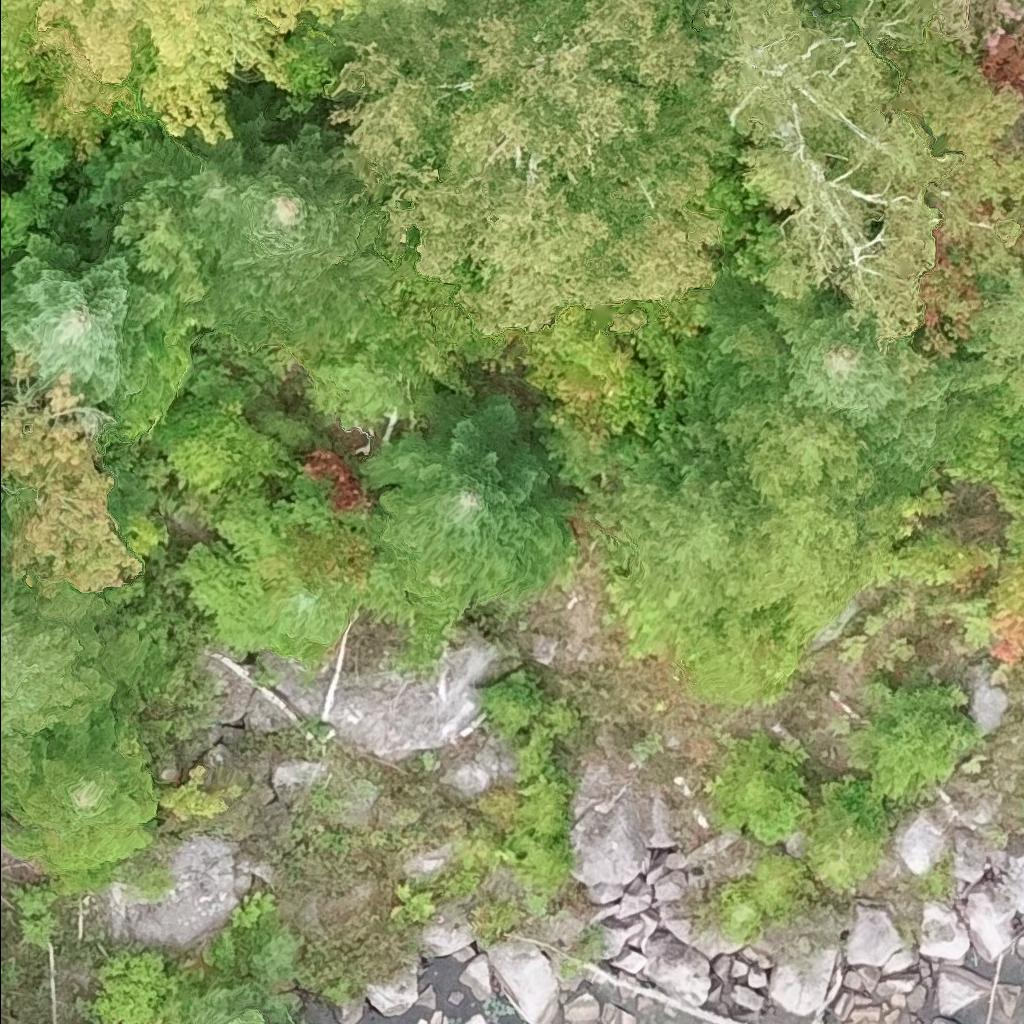crown: (323, 0, 739, 343), (679, 0, 1023, 357), (175, 111, 396, 355), (34, 0, 363, 145), (365, 392, 570, 614), (0, 565, 165, 794), (0, 351, 142, 603), (0, 213, 174, 411), (775, 287, 953, 479), (0, 701, 156, 876), (595, 463, 762, 626), (0, 0, 160, 158), (733, 489, 858, 645), (109, 167, 218, 306), (849, 681, 961, 798), (808, 775, 893, 885), (715, 731, 798, 816), (268, 581, 349, 657), (716, 609, 797, 684), (349, 0, 457, 43), (191, 980, 290, 1023), (0, 85, 44, 164), (752, 853, 804, 915), (0, 485, 30, 565)
